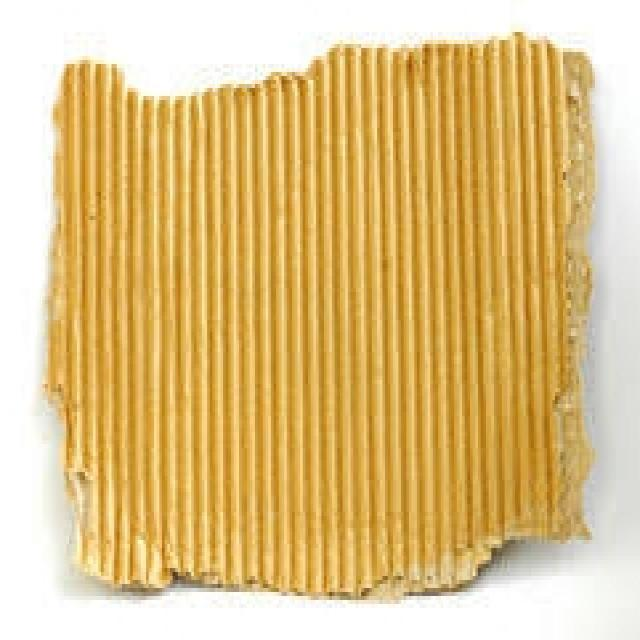cardboard paper: (48, 33, 591, 591)
